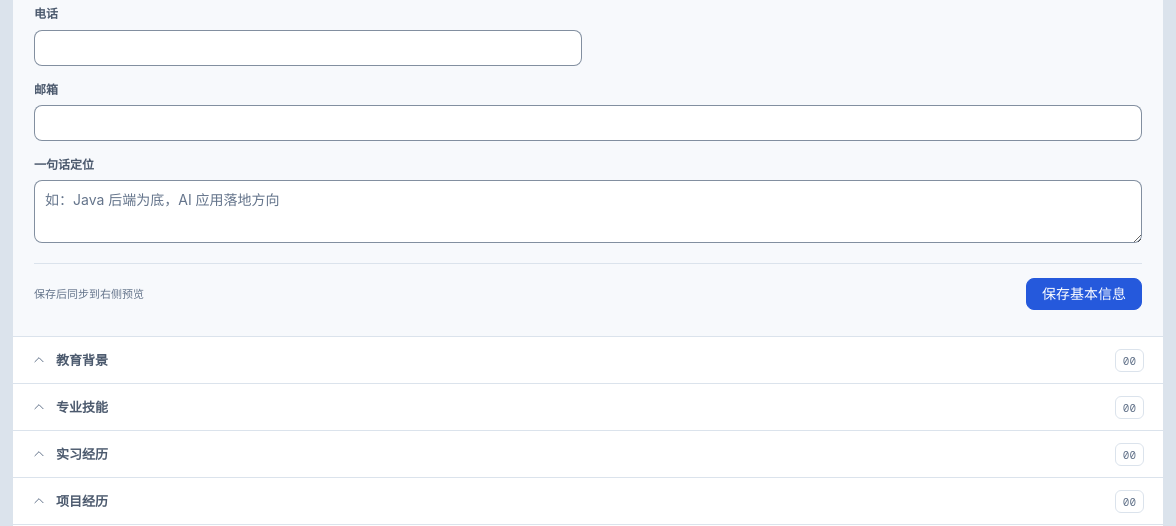
Test: ProfileEditor › 组头是手风琴按钮，带 aria-expanded 与 aria-controls
(page scrolled)
Click the button with class "tab-btn" showing "教育背景": (82,360) top-left (13, 338), bottom-right (1107, 384)
(page scrolled)
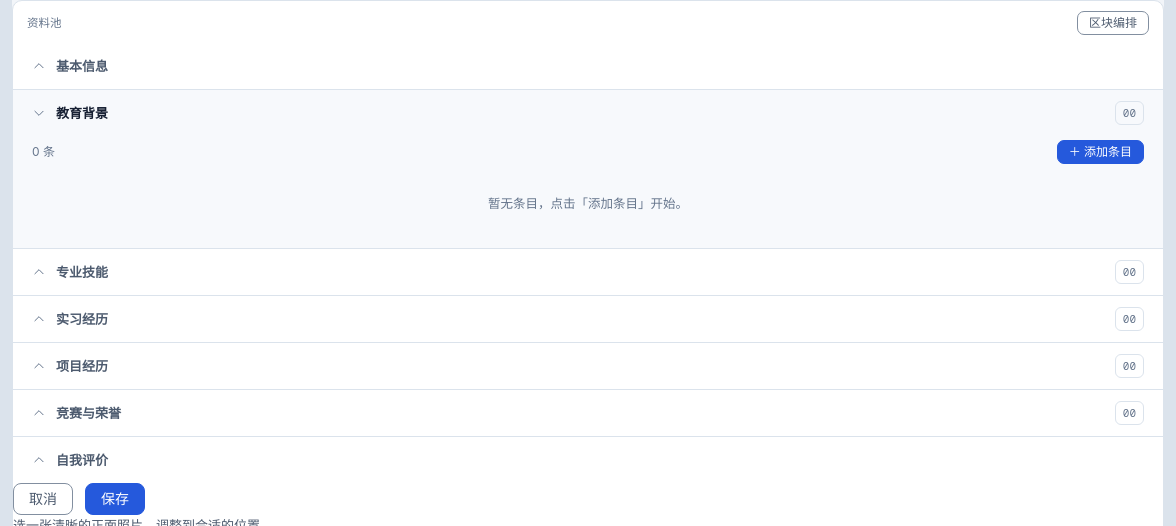
Expected: the button with class "tab-btn" is expanded, top-left (13, 90), bottom-right (1107, 136)
